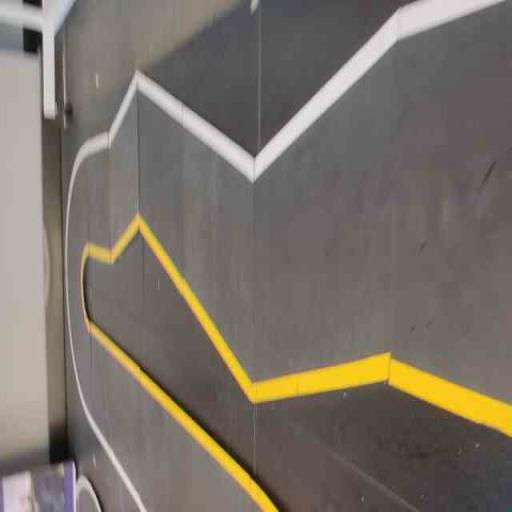crossleft: (256, 0, 392, 437)
